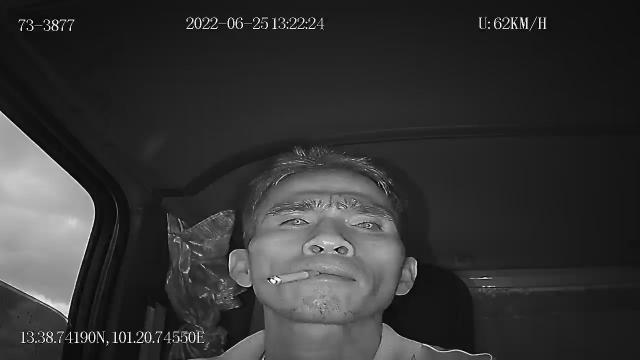SafeDriving: (272, 208, 316, 234), (344, 213, 388, 236)
Smoking: (267, 271, 321, 287)
